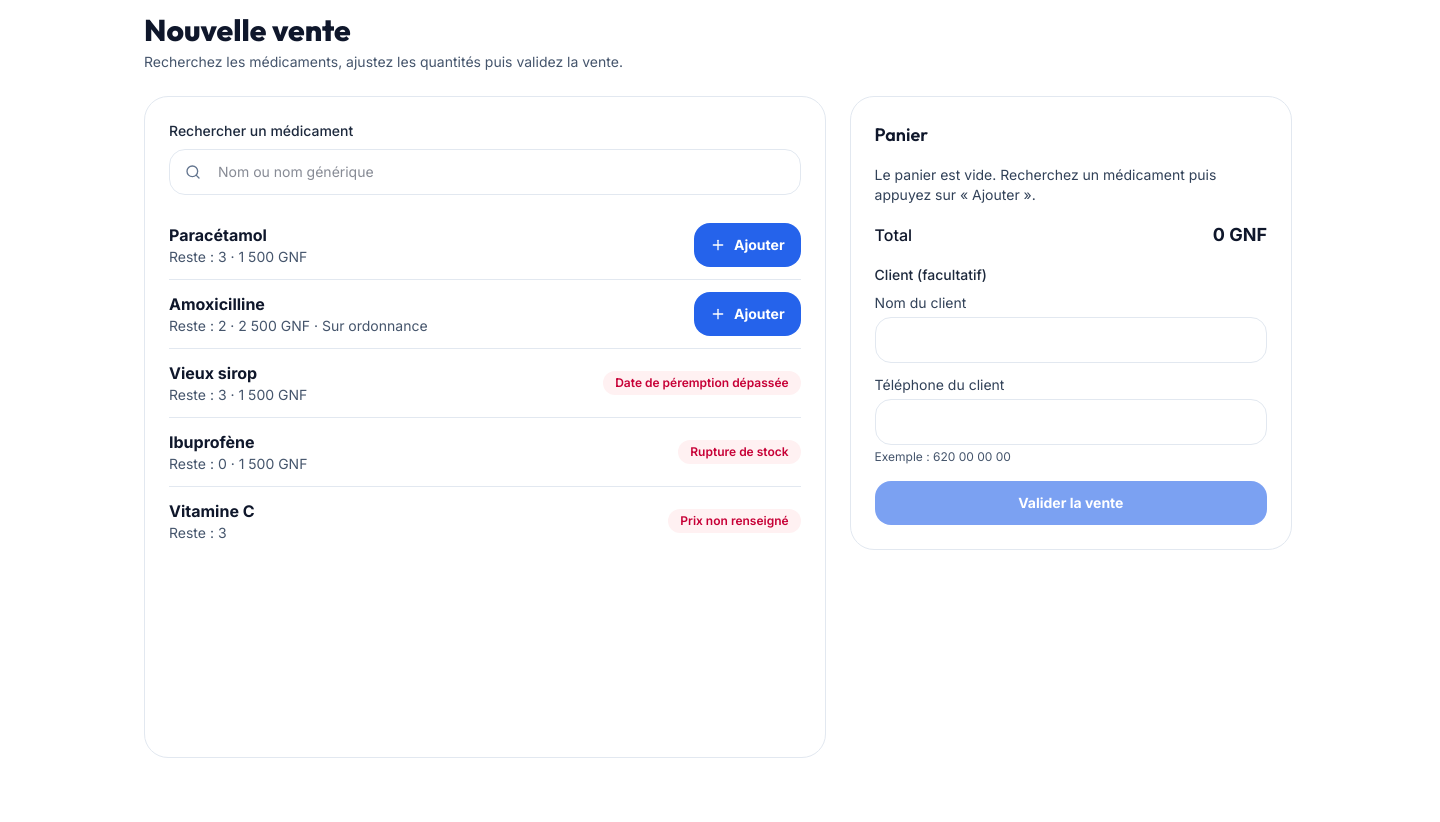
Test: Nouvelle vente › refuse un téléphone invalide sans ouvrir la confirmation
This screenshot has width=1440, height=822.
Expected: the text "Paracétamol" is shown, 169,225 -> 267,245
Click the button with aria-label "Ajouter Paracétamol au panier" at (747, 245), box 694,223 -> 801,267
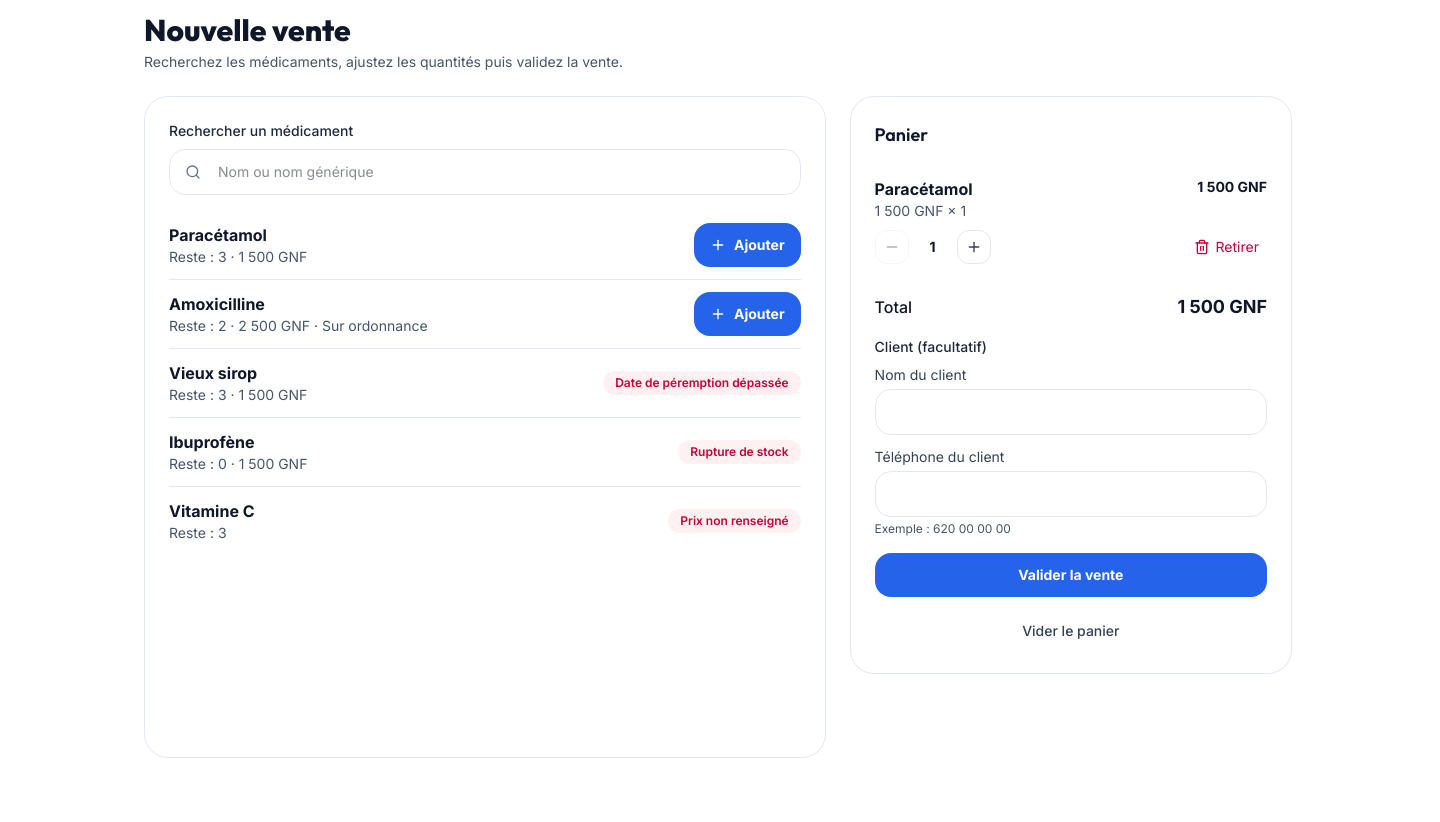
Type "12" into the field labelled "Téléphone du client" at (1071, 494), box 875,471 -> 1267,517
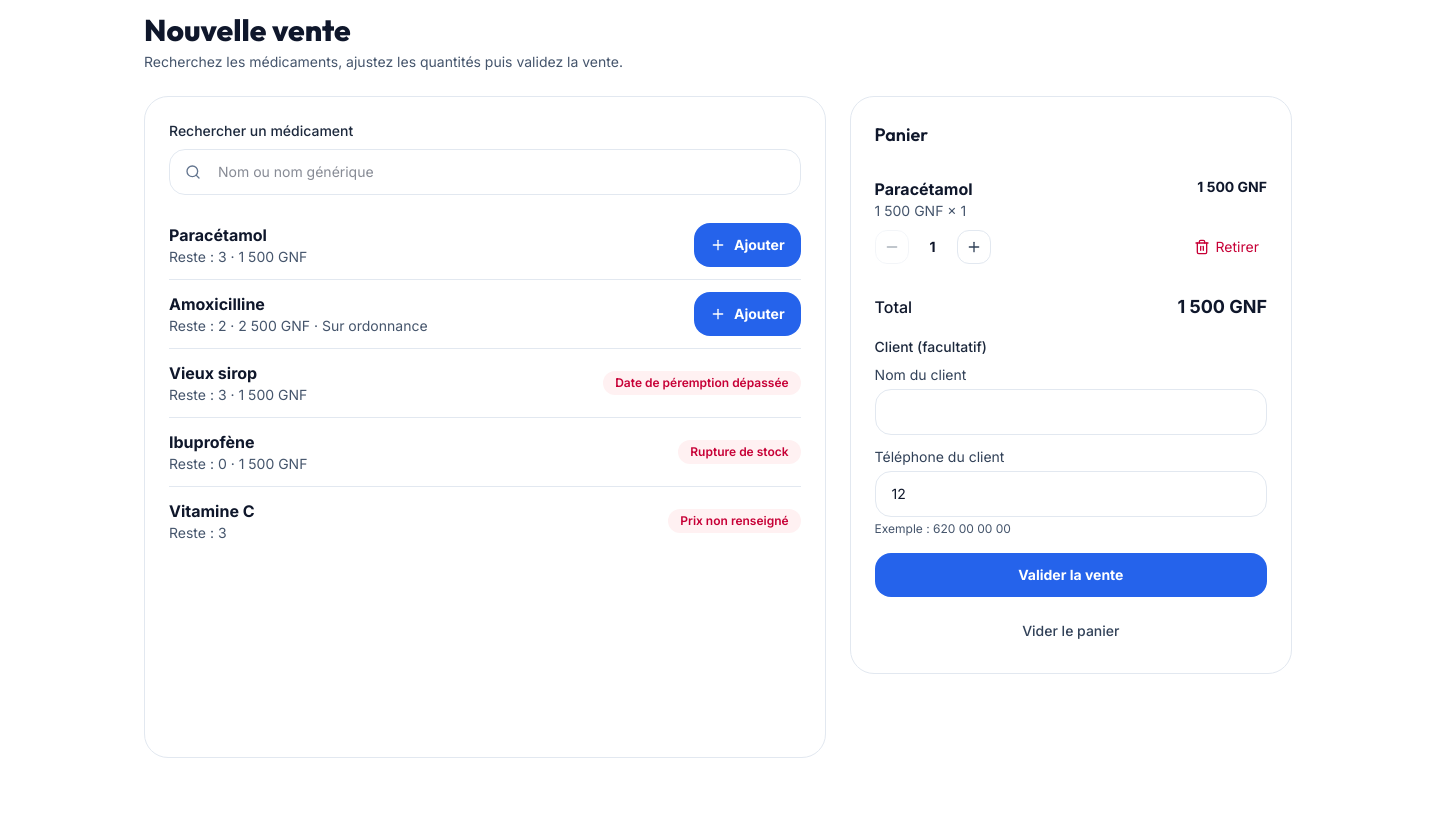
Click the button "Valider la vente" at (1071, 575), box 875,553 -> 1267,597
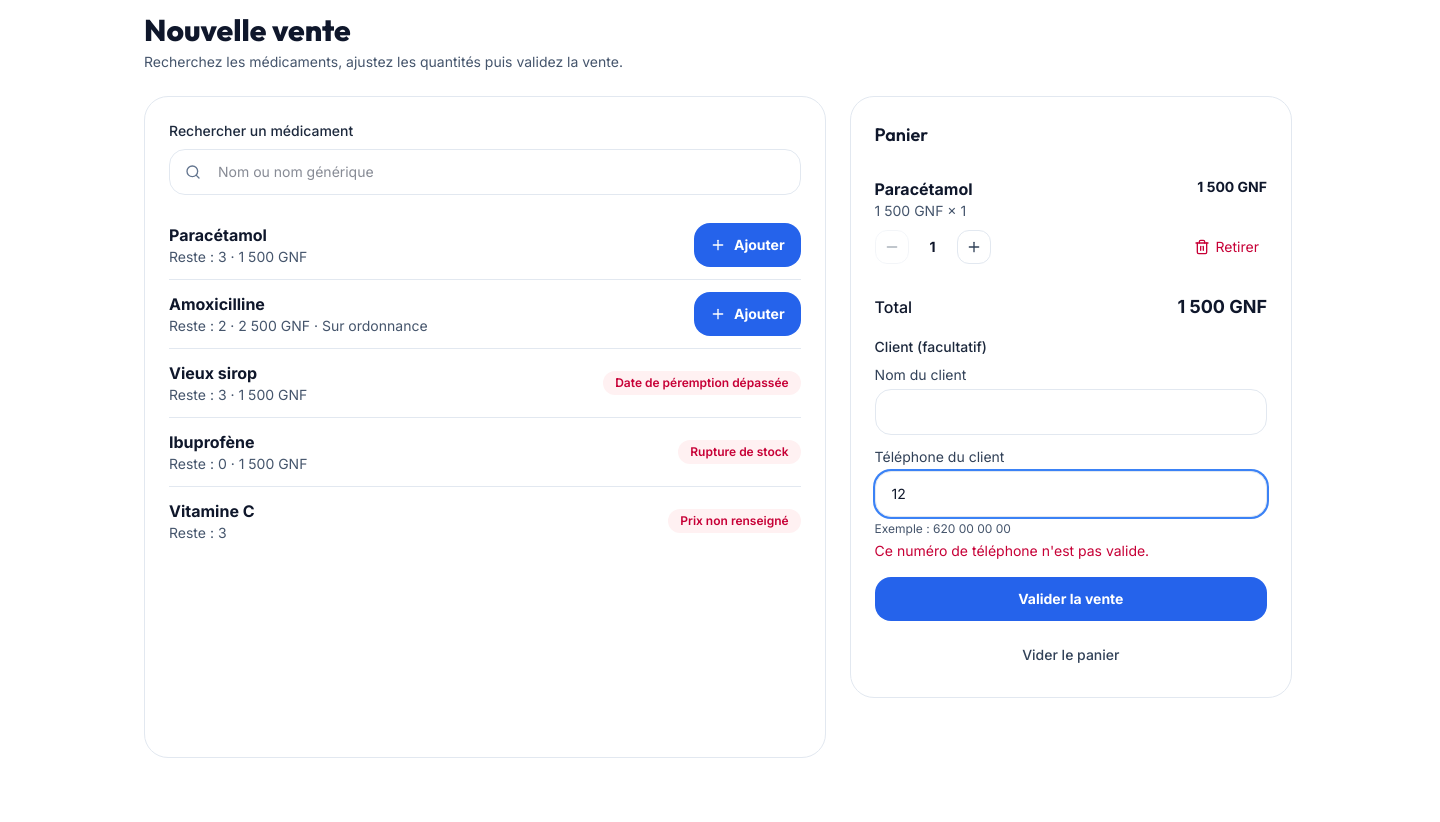
Now the text "Ce numéro de téléphone n'est pas valide." is shown, box 875,542 -> 1149,559
